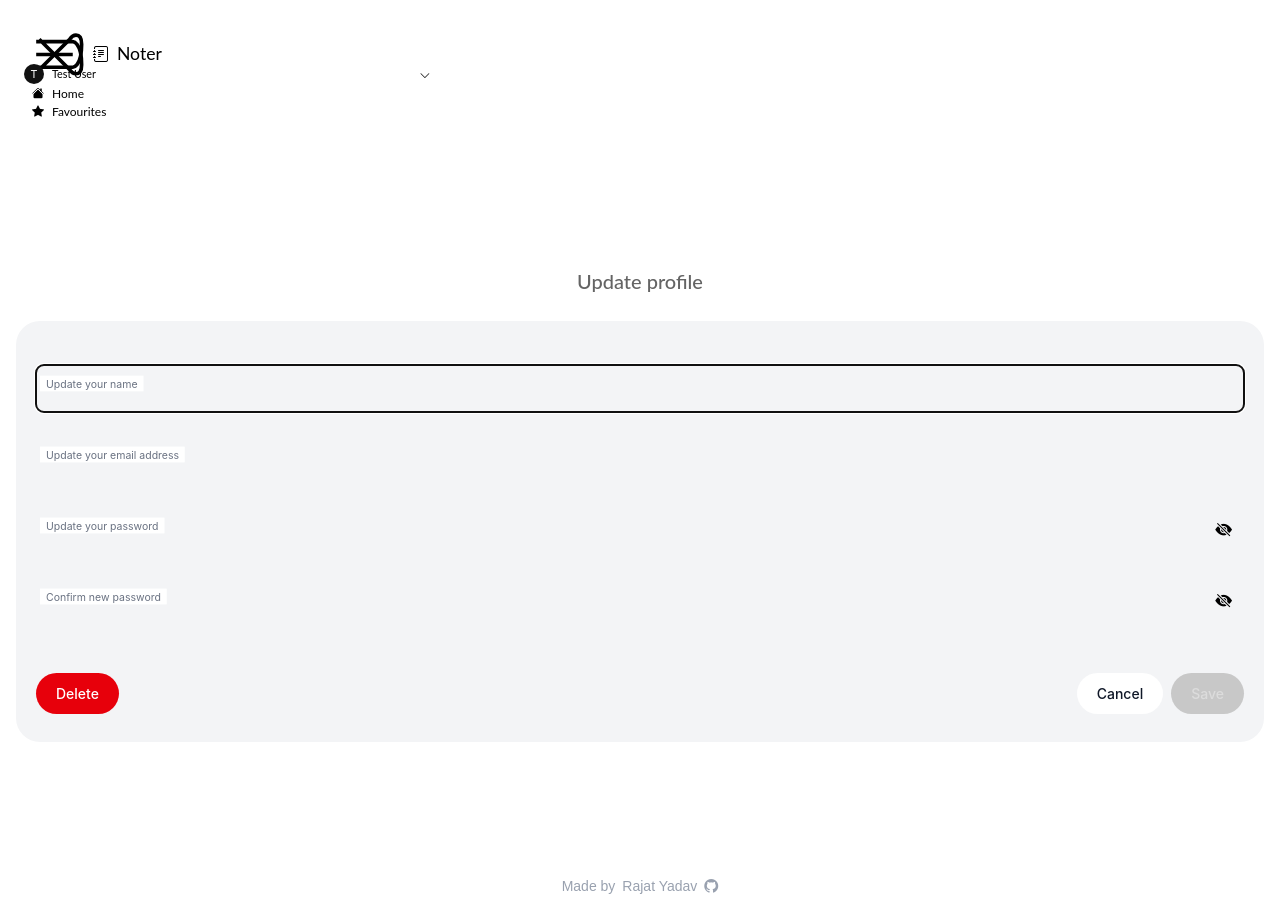
Test case: UserProfileEdit page › asks for confirmation to delete the user
What coordinates should you click on to do the following:
click the button "Delete"
I would click on:
 (77, 694)
Its box is [36, 674, 119, 714].
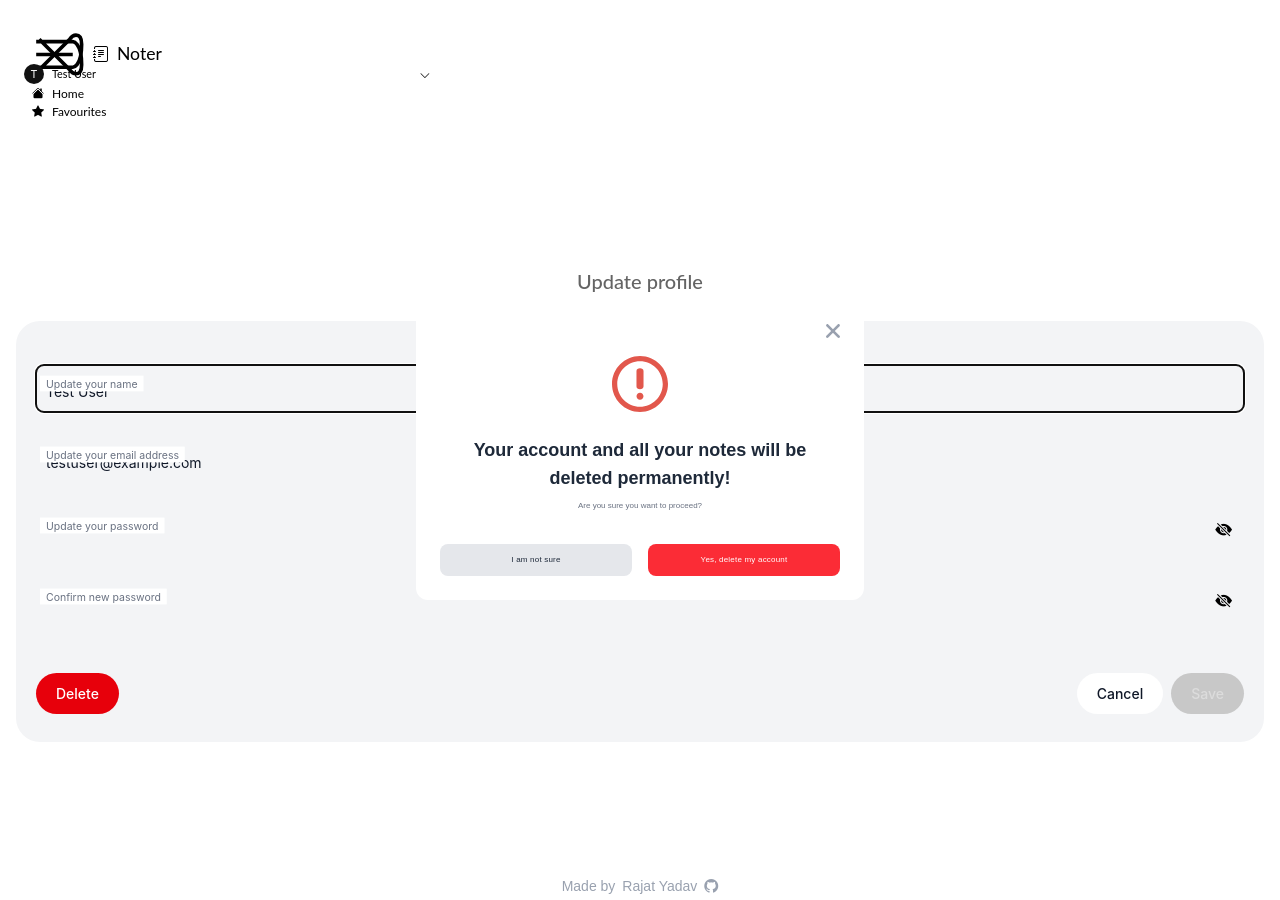
Check: the heading "Your account and all your notes will be deleted permanently!" is shown, box [474, 440, 806, 488]
Check: the text "Are you sure you want to proceed?" is shown, box [578, 501, 702, 510]
